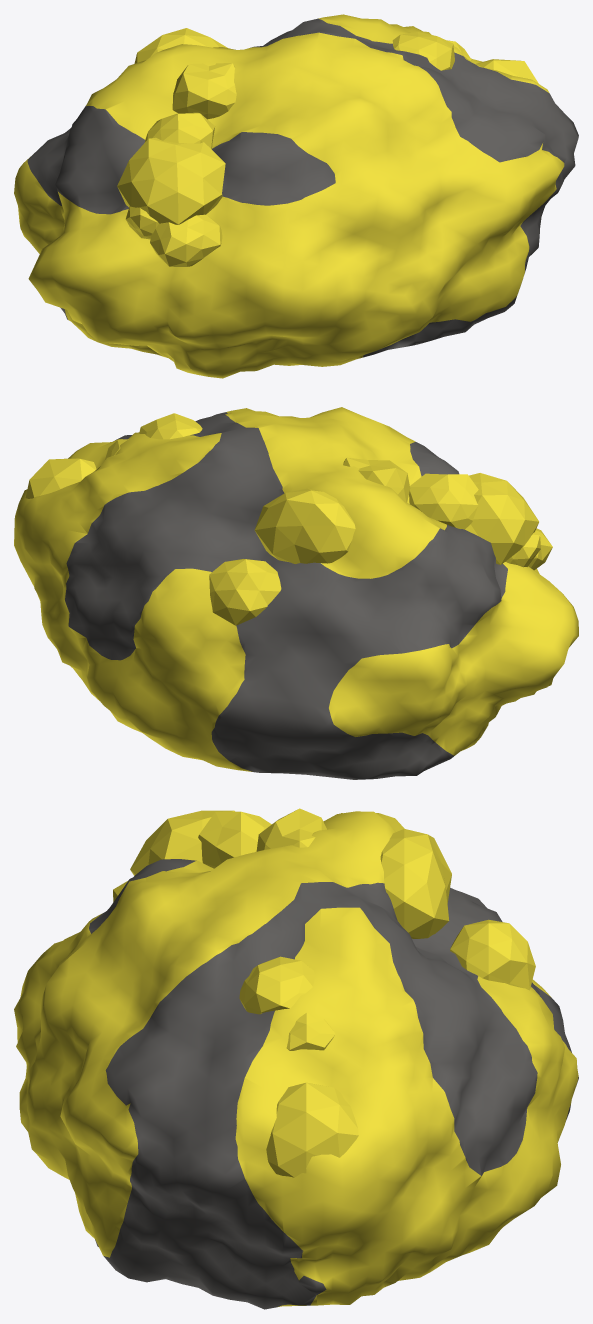
Rendered from sulfur_deep.glb.
3 views of the same model, one above another, from view 1: azimuth 30°, elevation 25°; view 2: azimuth 150°, elevation 25°; view 3: azimuth 270°, elevation 25° (orthographic). The views are drawn at different scales.
Visible parts, largest first — view 1: sulfur_deep; view 2: sulfur_deep; view 3: sulfur_deep.
Part boxes in pixels (bbox=[...]): sulfur_deep: bbox=[14, 14, 578, 378]; sulfur_deep: bbox=[14, 407, 578, 779]; sulfur_deep: bbox=[14, 808, 578, 1309].
Bounding box in the file's own units: 2.29 × 1.06 × 1.68.
